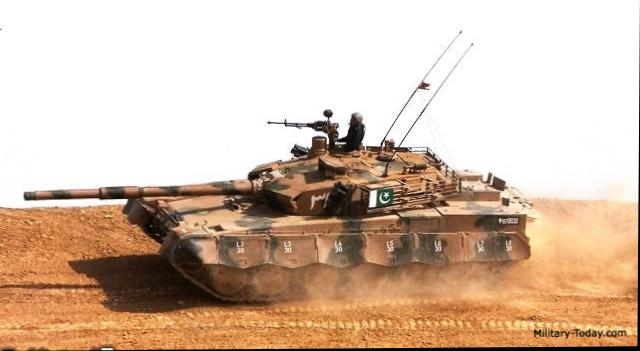tank: (123, 114, 549, 303)
